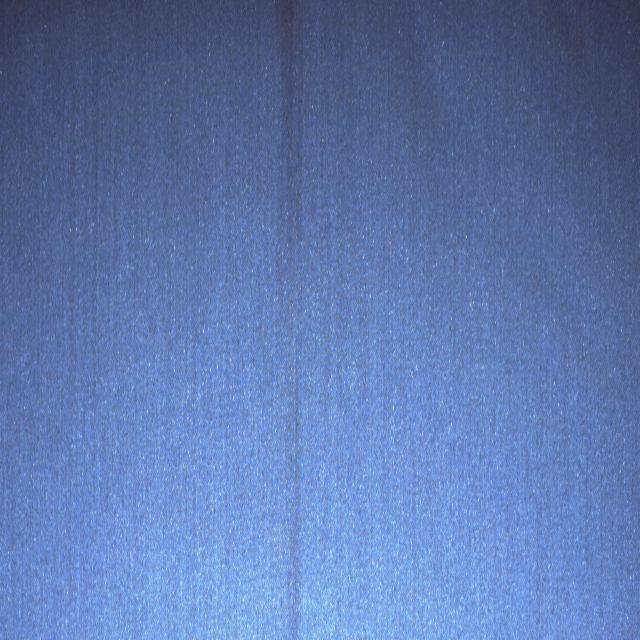Stain: (276, 0, 305, 295), (280, 345, 303, 639)
